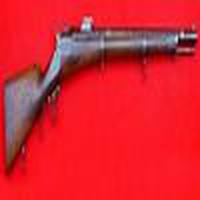gun: (4, 21, 200, 164)
